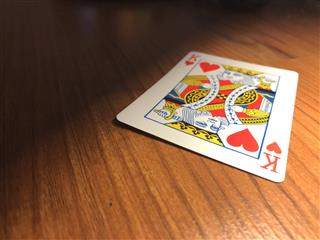KingOfHearts: (115, 50, 299, 182)
